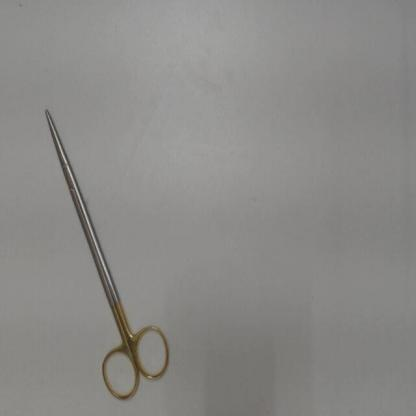7 Metzenbaum Scissors: (43, 102, 173, 406)
